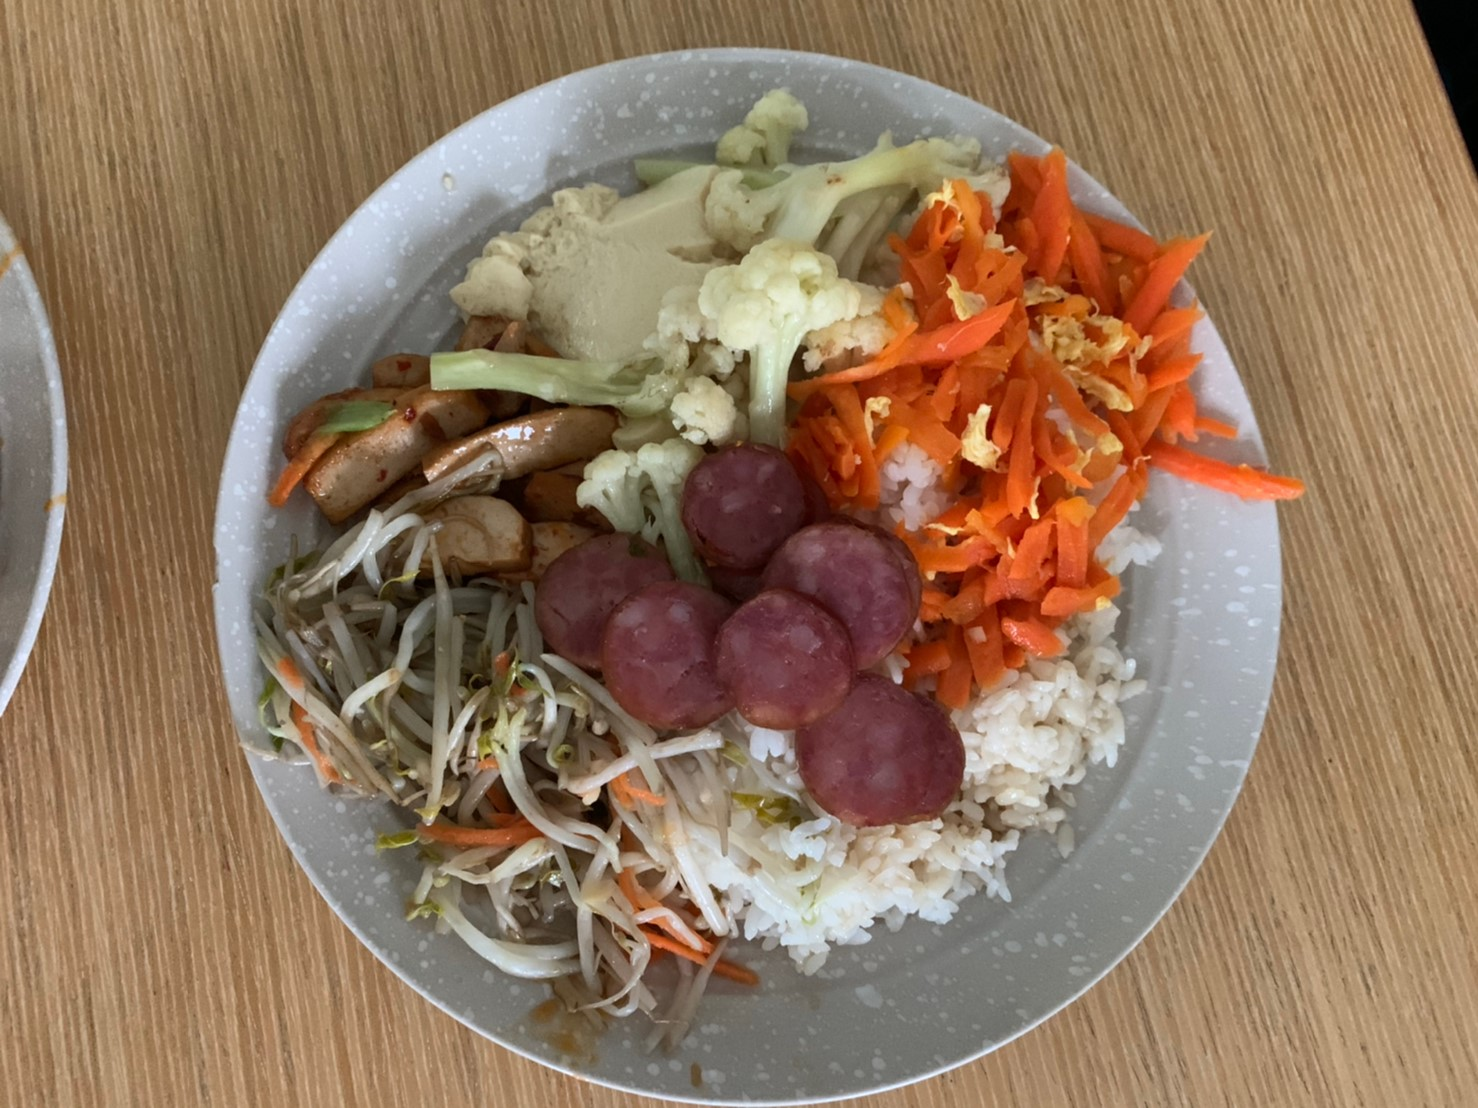carrot_eggs: (877, 180, 1196, 541)
chinese_sausage: (549, 447, 965, 828)
mung_bean_sprouts: (262, 518, 651, 972)
rice: (689, 743, 1002, 949)
